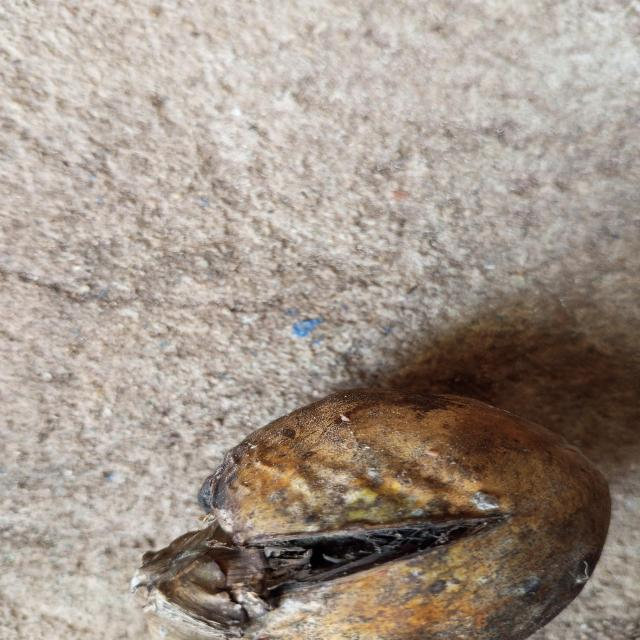damaged: (133, 378, 613, 640)
